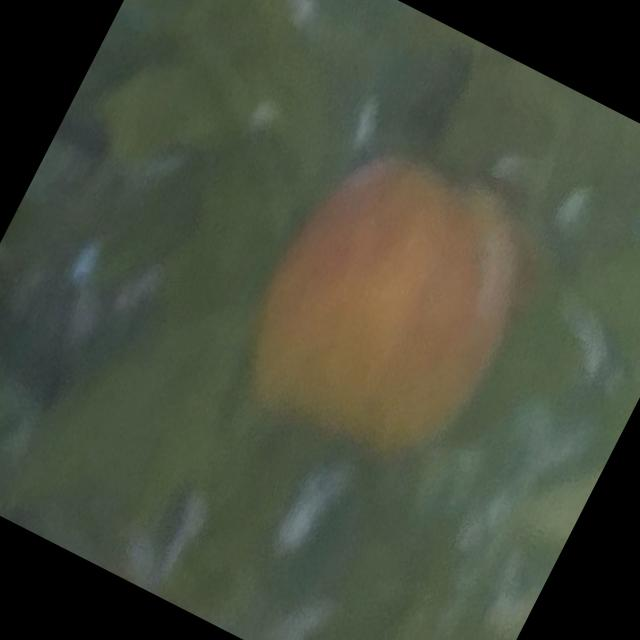Apples: (222, 128, 553, 482)
